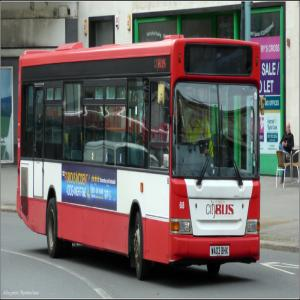Vehicle-registration-plate: (210, 247, 230, 258)
